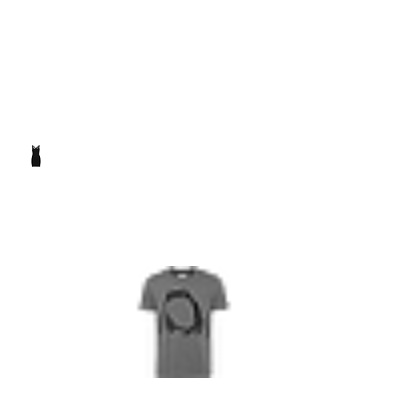Dress: (25, 145, 47, 167)
T-shirt/top: (126, 266, 238, 378)
